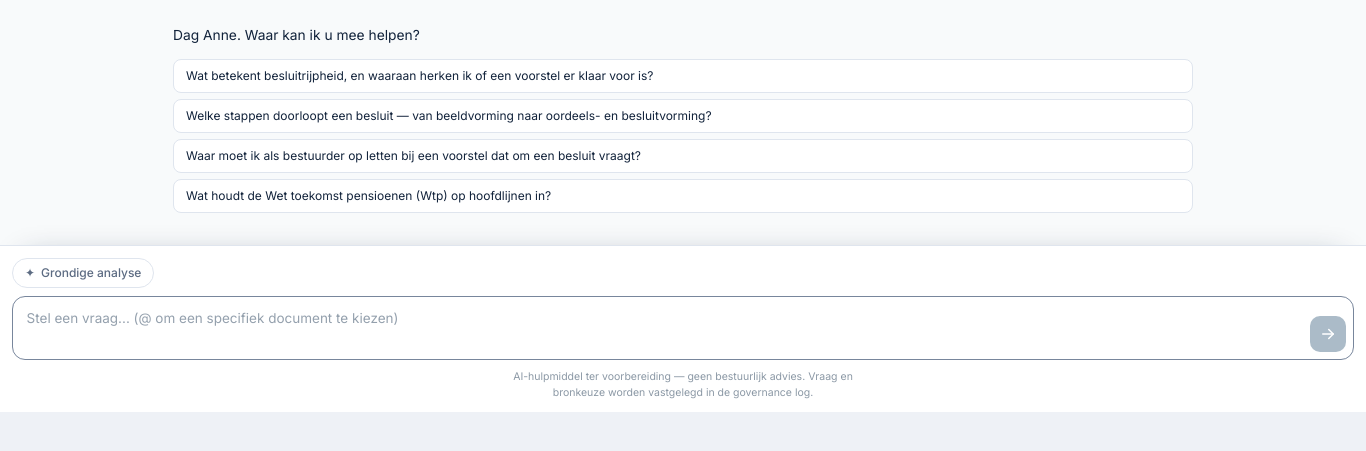
Test case: AssistentClient — SSE-verwerking › geeft een afgebroken stream GEEN kopieerknop
Type "Wat is onze dekkingsgraad?" into the text box with placeholder "Stel een vraag... (@ om een specifiek document te kiezen)" at [683, 328], box x1=13 y1=297 x2=1353 y2=360
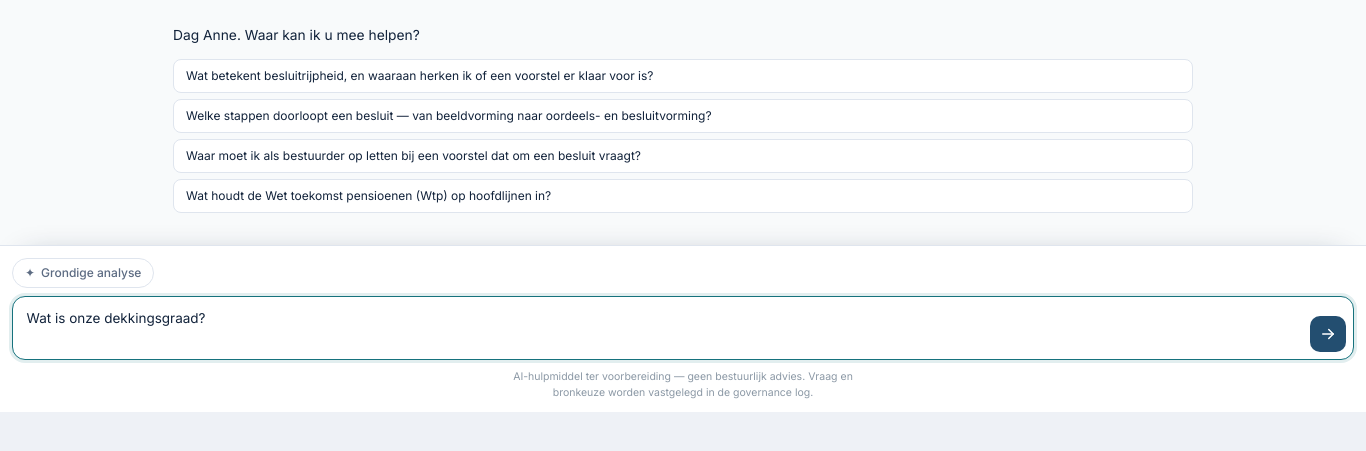
Click the button named "Vraag versturen" at [1328, 334], box x1=1310 y1=316 x2=1346 y2=352
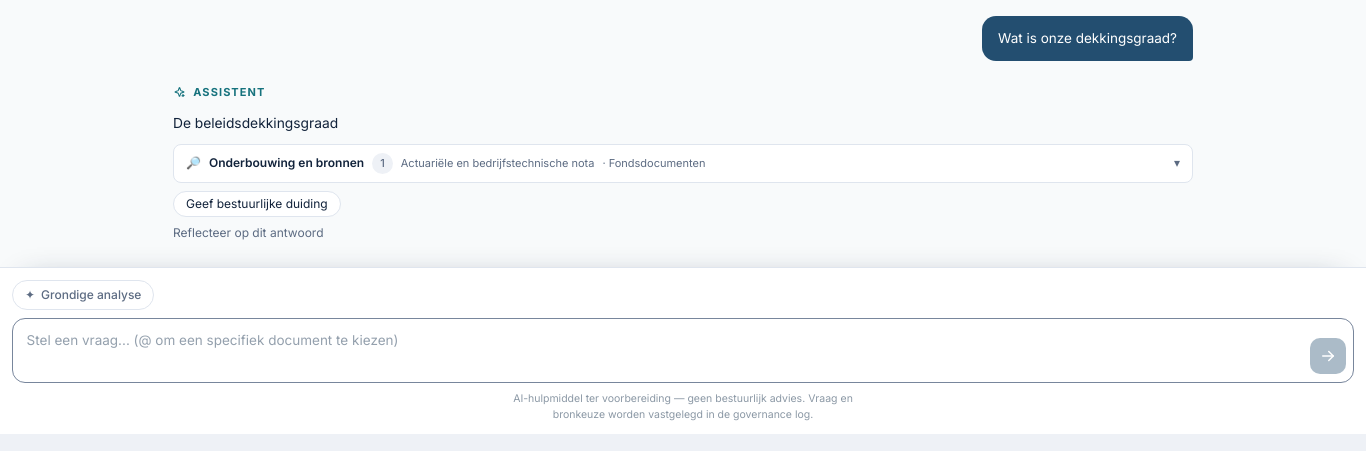
Check: the text "De beleidsdekkingsgraad" is shown, box x1=173 y1=115 x2=338 y2=131
